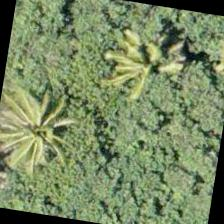Kelapa_Sawit: (83, 16, 186, 118), (0, 72, 88, 175)
